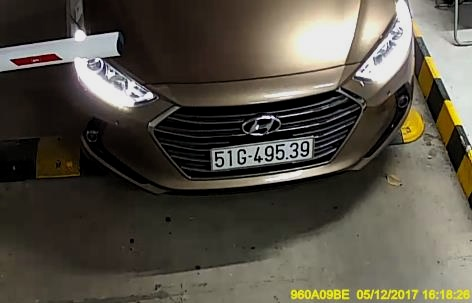plate: (211, 140, 310, 169)
